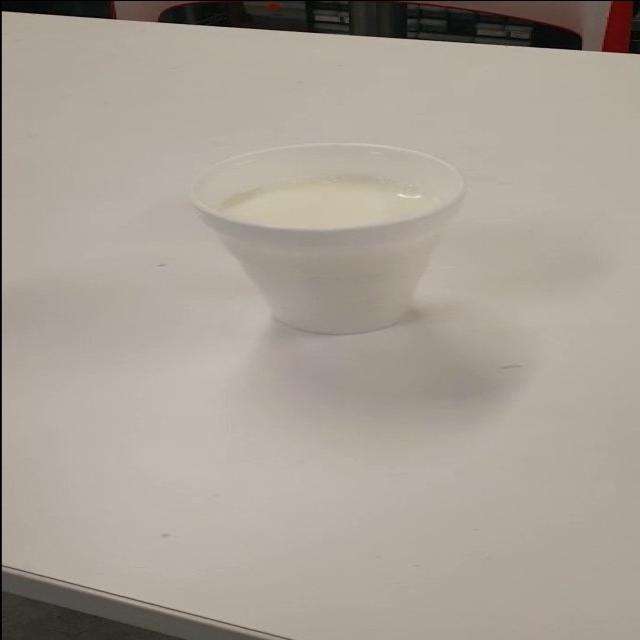Milk: (177, 133, 513, 359)
